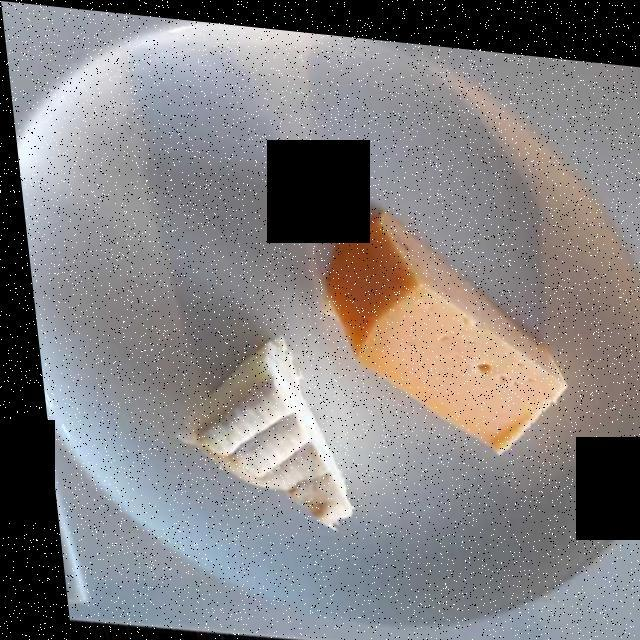cheese: (321, 205, 553, 438), (169, 331, 338, 516)
